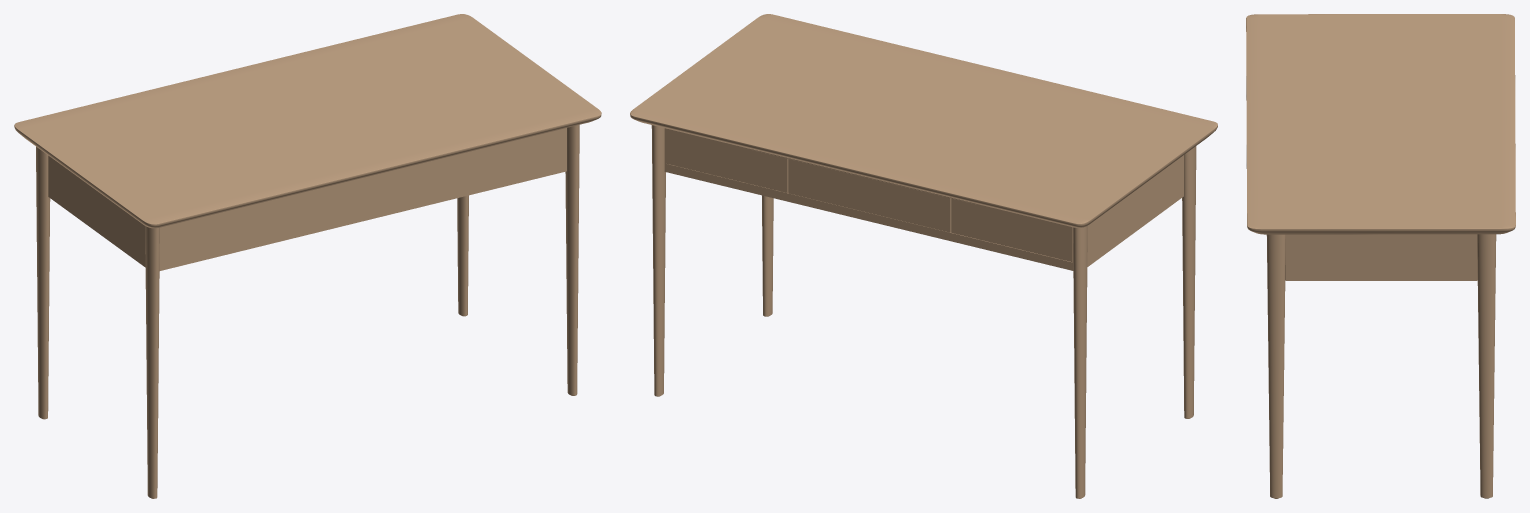
Rendered from NFG-I0022.glb.
3 renders of one model, left to right at view 1: azimuth 30°, elevation 25°; view 2: azimuth 150°, elevation 25°; view 3: azimuth 270°, elevation 25°, orthographic. The views are drawn at different scales.
Parts seen in each view (by area): view 1: Mid century desktop001; view 2: Mid century desktop001; view 3: Mid century desktop001.
Part boxes in pixels (x1,y1,x2,y2): Mid century desktop001: [14, 14, 601, 498]; Mid century desktop001: [630, 14, 1217, 498]; Mid century desktop001: [1246, 14, 1515, 498].
Bounding box in the file's own units: 2 × 1.21 × 1.06.
Materials: 1 (1 with a texture image).
